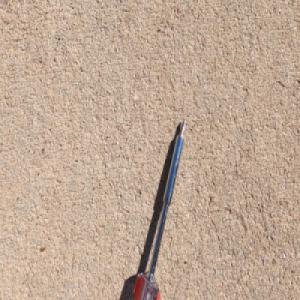Screwdriver: (129, 115, 187, 300)
